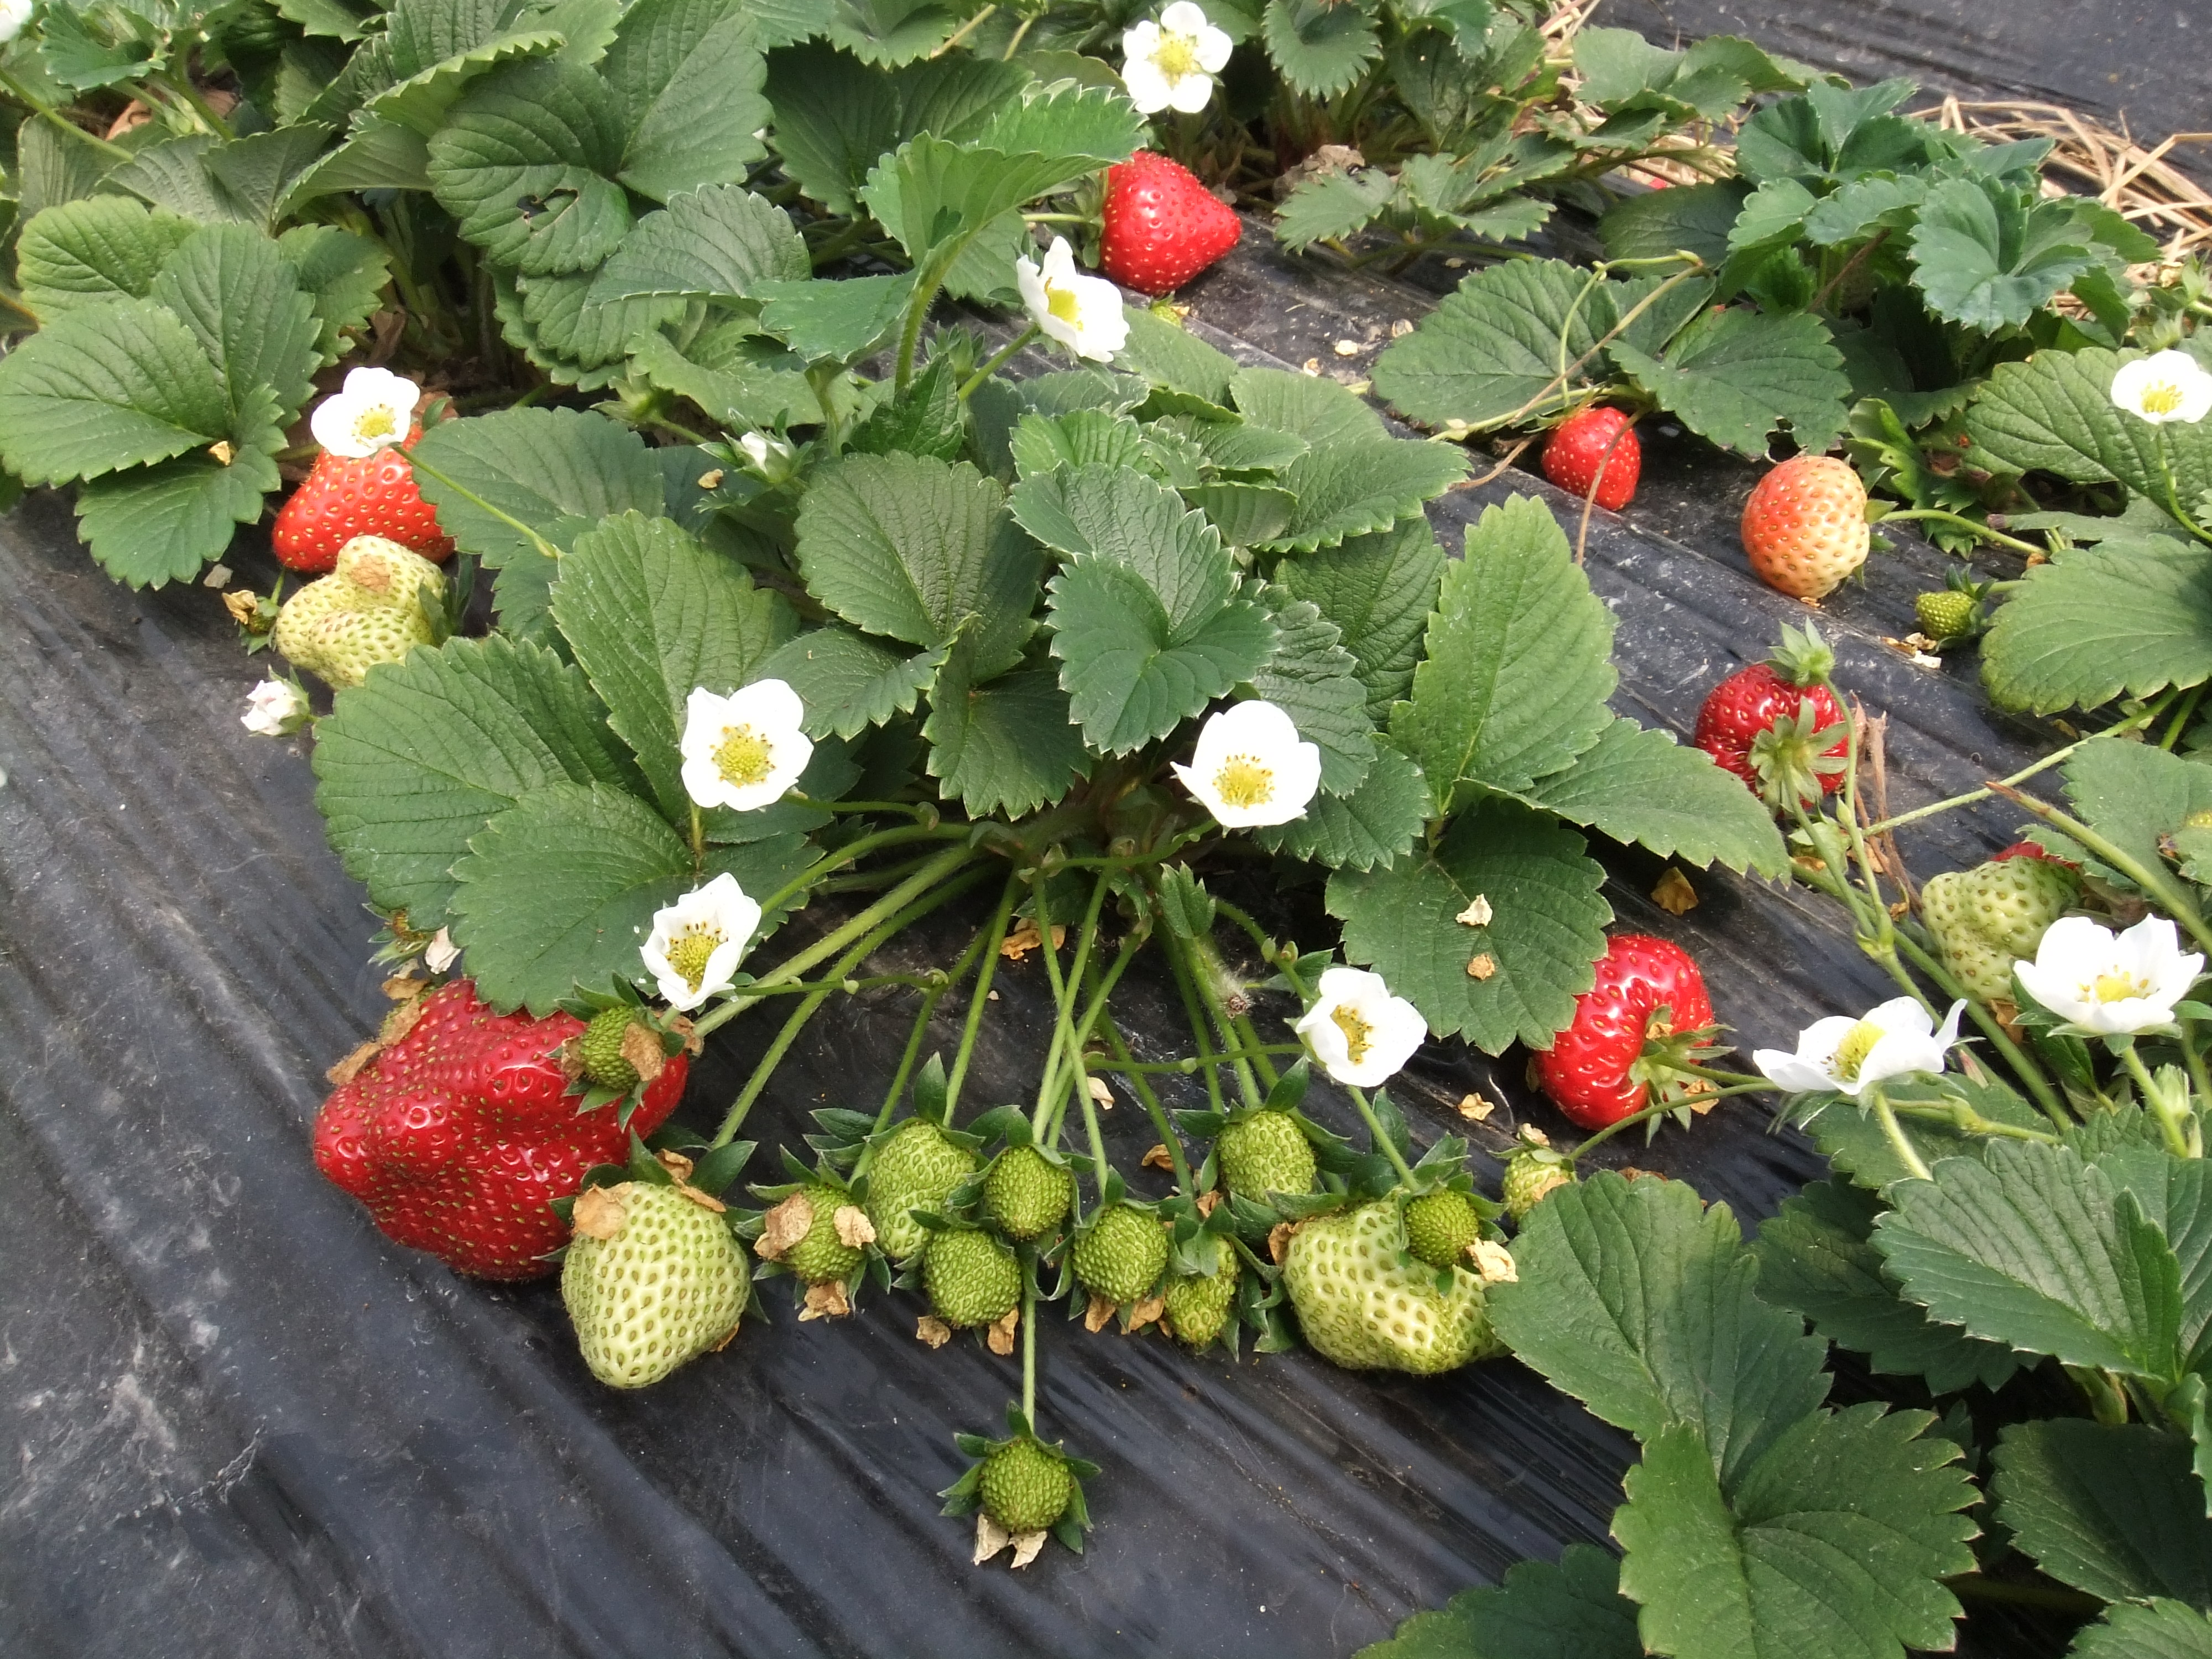StrawberryCircular: (1510, 917, 1719, 1124), (1083, 139, 1244, 303), (1534, 383, 1648, 511)
StrawberryIrremovable: (564, 1178, 758, 1389), (1284, 1201, 1501, 1380), (268, 535, 456, 709), (1921, 861, 2085, 1012), (1740, 443, 1881, 601), (857, 1112, 988, 1262), (1209, 1103, 1317, 1225), (913, 1225, 1029, 1324), (979, 1438, 1076, 1554), (772, 1176, 867, 1290), (1073, 1197, 1167, 1305), (1158, 1230, 1247, 1342), (573, 997, 674, 1089), (984, 1136, 1076, 1237), (1491, 1134, 1576, 1225), (1399, 1183, 1477, 1270), (1919, 575, 1986, 636)
StrawberryOther: (301, 946, 691, 1286), (246, 375, 479, 568), (1684, 647, 1874, 821)
StrawberryRemovable: (305, 950, 686, 1286), (1512, 918, 1717, 1126), (254, 380, 470, 570), (1686, 648, 1867, 814), (1087, 145, 1242, 300), (1538, 387, 1651, 514)
